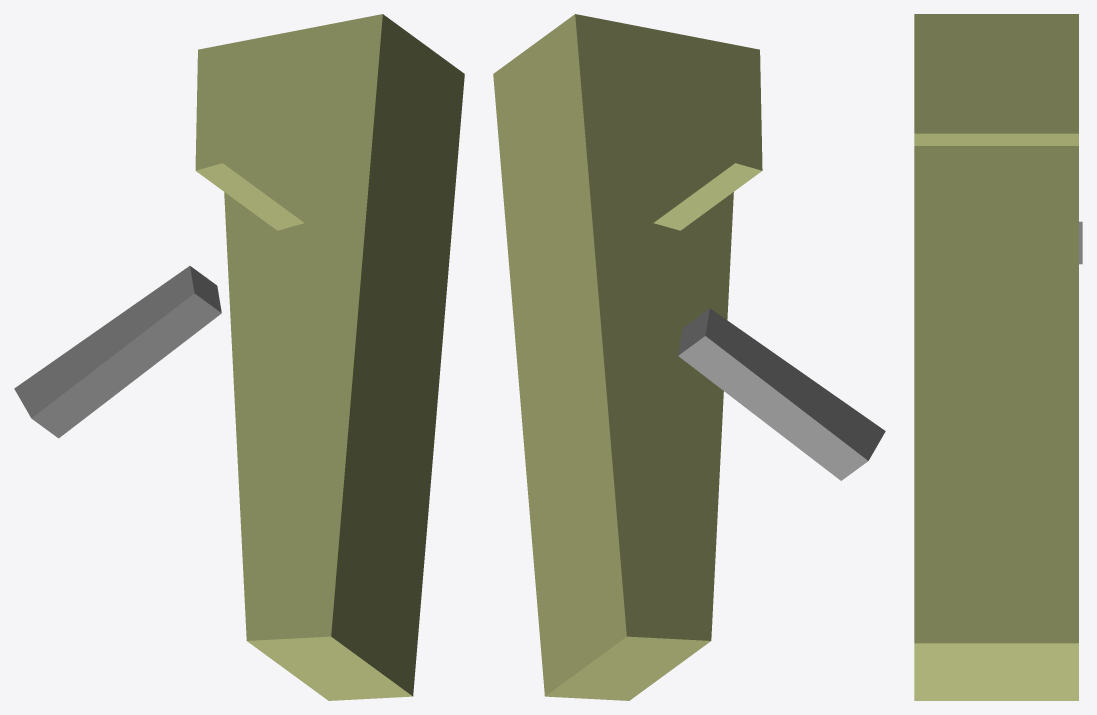
3 renders of one model, left to right at view 1: azimuth 30°, elevation 25°; view 2: azimuth 150°, elevation 25°; view 3: azimuth 270°, elevation 25°, orthographic.
Visible parts, largest first — view 1: 0_2_0_1_1_1_1_1_2; view 2: 0_2_0_1_1_1_1_1_2; view 3: 0_2_0_1_1_1_1_1_2.
Part boxes in pixels (x1,y1,x2,y2): 0_2_0_1_1_1_1_1_2: [14, 14, 464, 700]; 0_2_0_1_1_1_1_1_2: [493, 14, 885, 700]; 0_2_0_1_1_1_1_1_2: [914, 14, 1082, 700].
Size of the model in its own units: 23.26 by 37.51 by 9.19.
